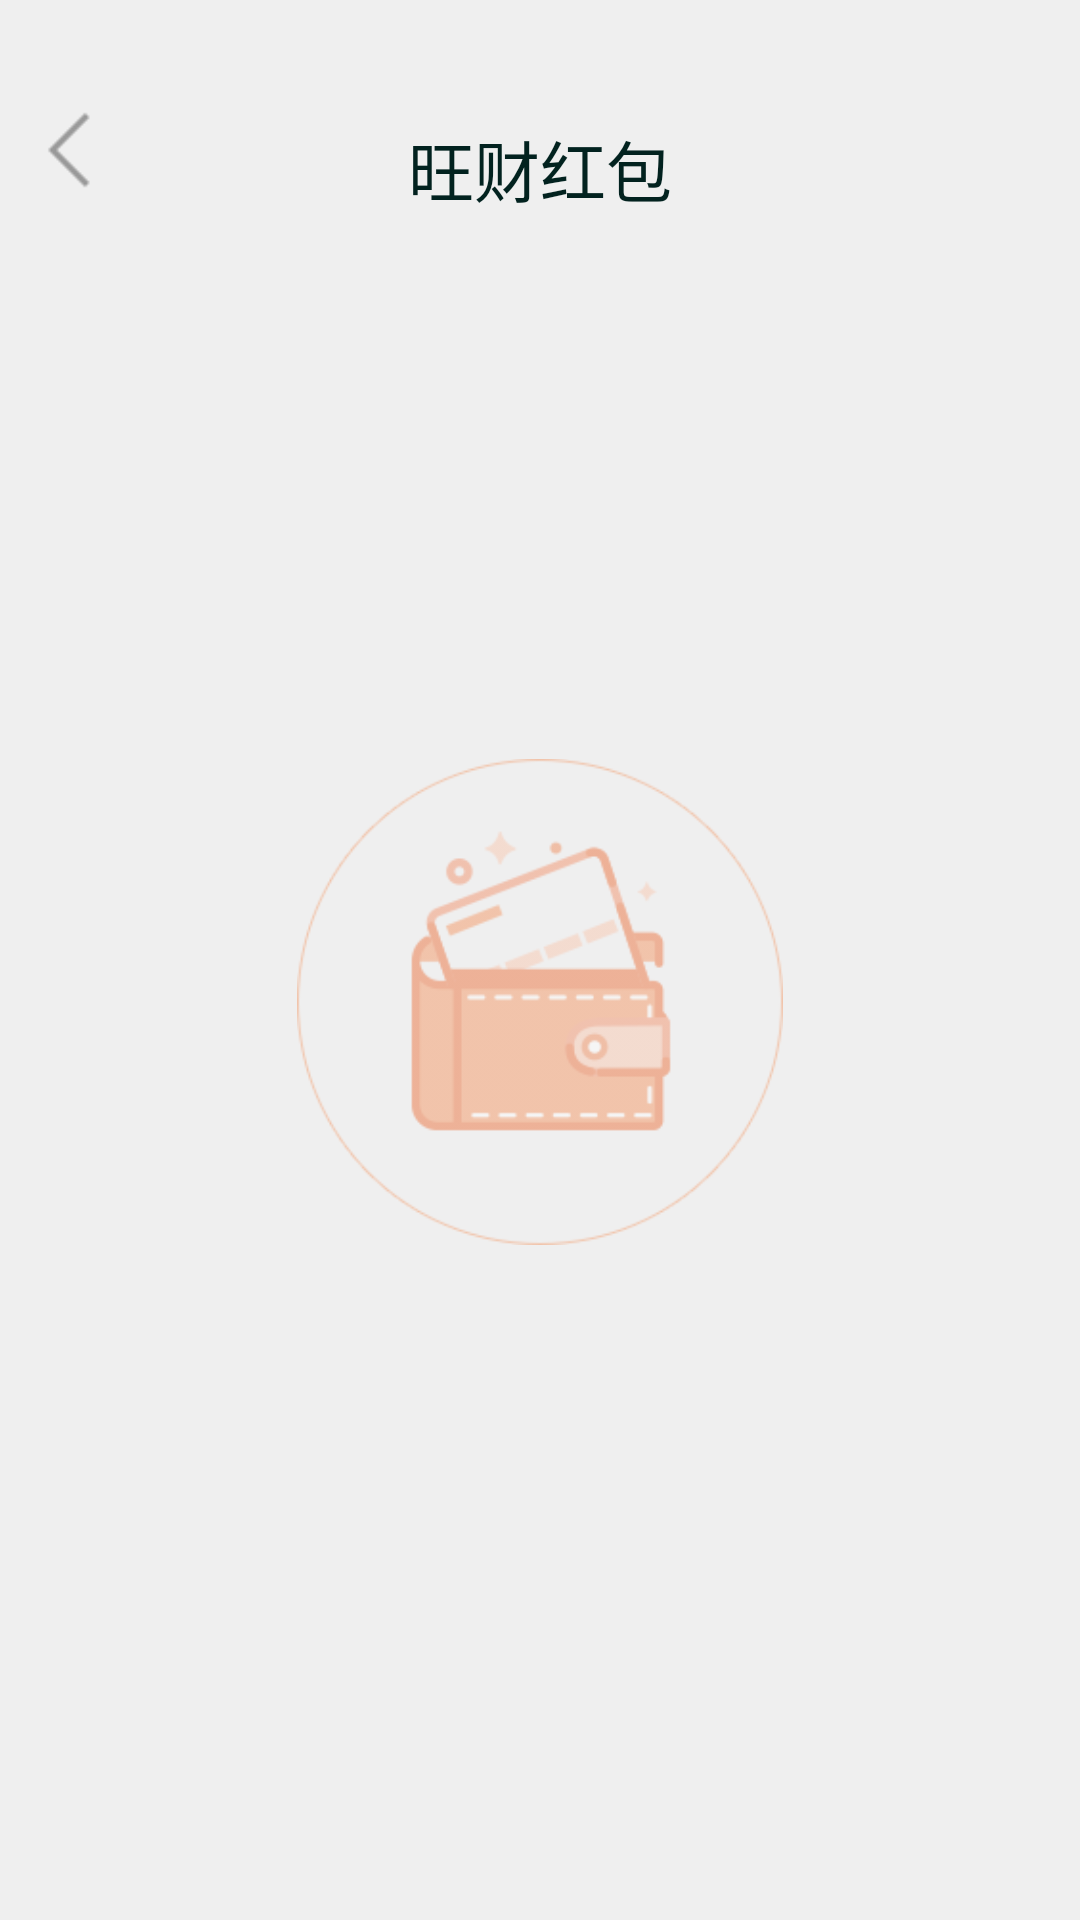

Point at icon controls on the screen. Image size 1080w x 1920h, points as (x=x, y=y).
back: (x=69, y=150)
